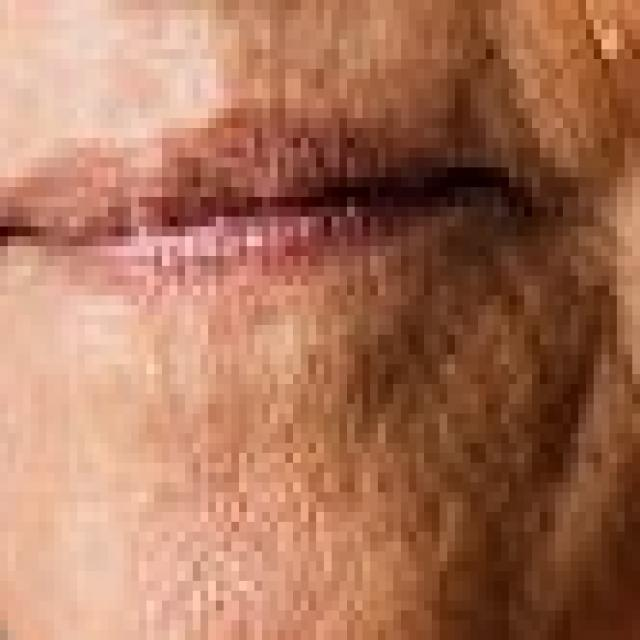closed-mouth: (0, 148, 532, 309)
